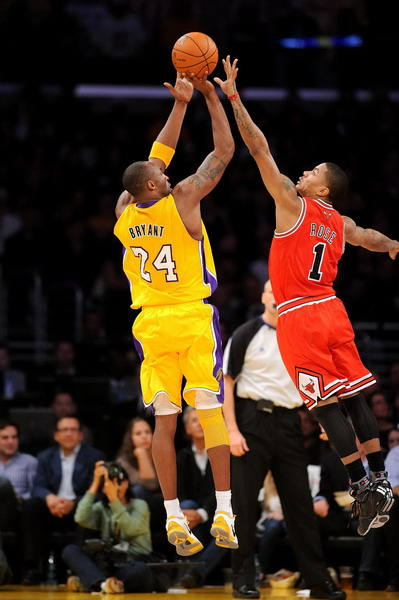Basketball: (171, 27, 219, 81)
